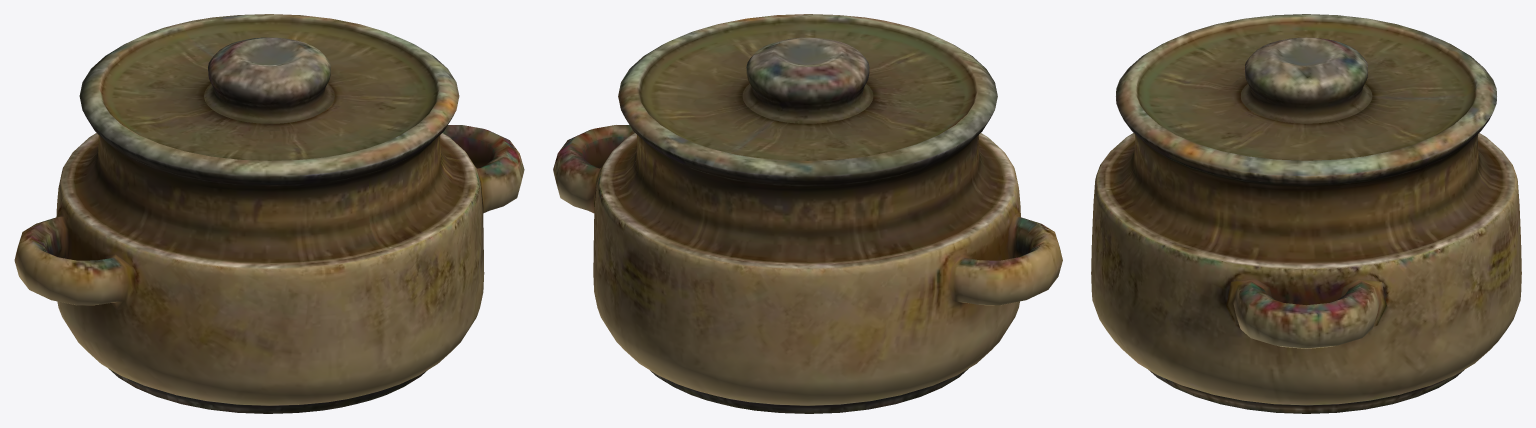
File: ceramic_pot.glb
The picture shows the model from 3 angles, left to right: view 1: azimuth 30°, elevation 25°; view 2: azimuth 150°, elevation 25°; view 3: azimuth 270°, elevation 25°; orthographic projection.
Visible parts, largest first — view 1: ceramic_pot; view 2: ceramic_pot; view 3: ceramic_pot.
Boxes of the visible parts, <box> form: ceramic_pot: <box>14,14,524,413</box>; ceramic_pot: <box>553,14,1062,413</box>; ceramic_pot: <box>1091,14,1521,413</box>.
Bounding box in the file's own units: 0.6563 × 0.3717 × 0.5018.
Materials: 1 (1 with a texture image).
